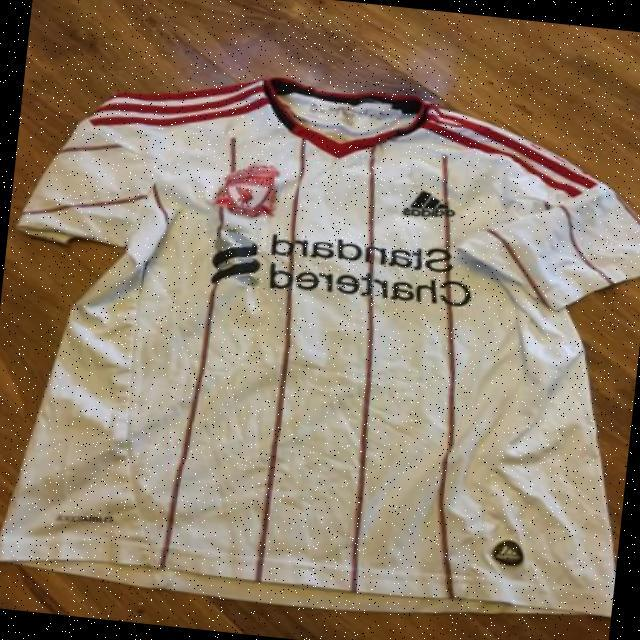Adidas: (402, 189, 457, 222)
Standard Chartered: (209, 222, 476, 311)
